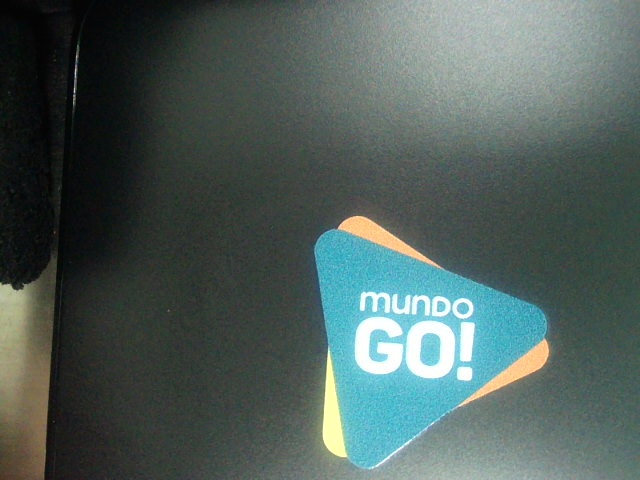AP_IPGMundoGO: (283, 203, 569, 474)
